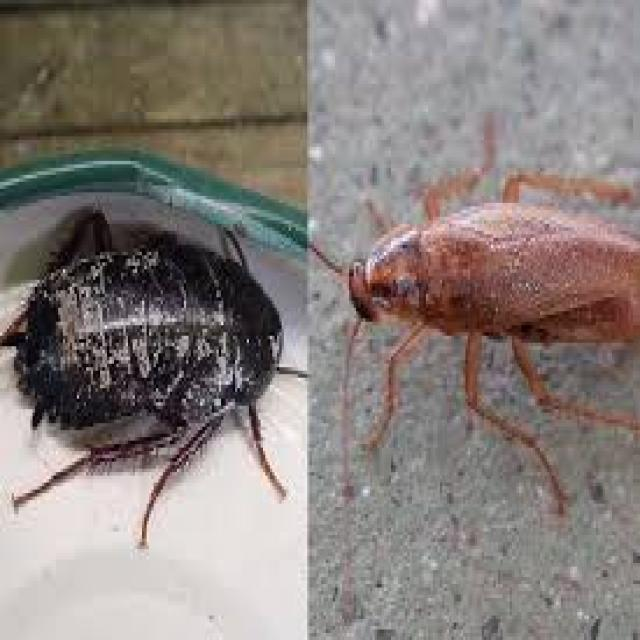Cockroach: (314, 69, 640, 540)
